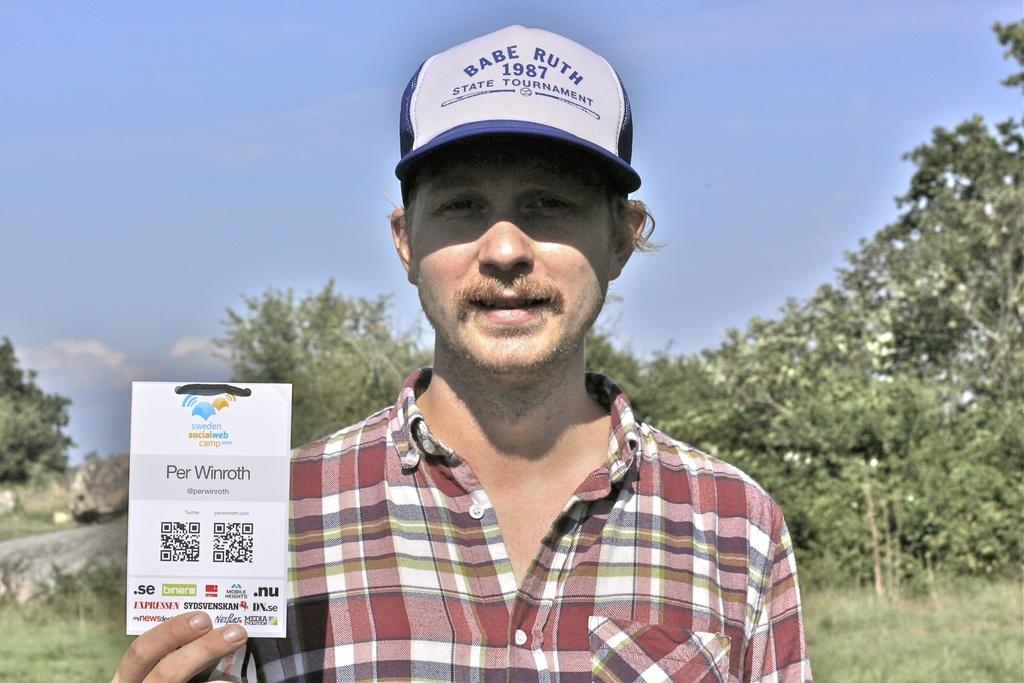Hat: (396, 23, 638, 199)
